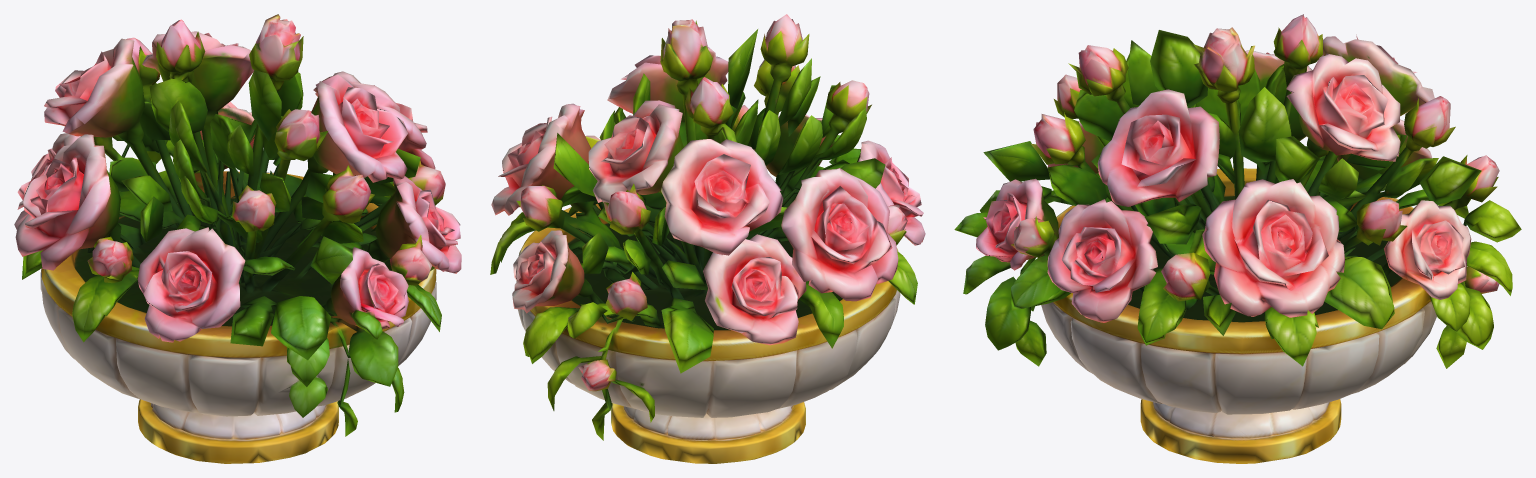
File: HaloFlowerPotHQ_Rose_HD_src.glb
The picture shows the model from 3 angles, left to right: view 1: azimuth 30°, elevation 25°; view 2: azimuth 150°, elevation 25°; view 3: azimuth 270°, elevation 25°; orthographic projection. The views are drawn at different scales.
Parts seen in each view (by area): view 1: tripo_node_f7cda2cc-5327-47d5-830c-140db2cbeab0; view 2: tripo_node_f7cda2cc-5327-47d5-830c-140db2cbeab0; view 3: tripo_node_f7cda2cc-5327-47d5-830c-140db2cbeab0.
Part boxes in pixels (box(x1,y1,x2,y2)): tripo_node_f7cda2cc-5327-47d5-830c-140db2cbeab0: box(14, 14, 461, 463); tripo_node_f7cda2cc-5327-47d5-830c-140db2cbeab0: box(490, 14, 925, 463); tripo_node_f7cda2cc-5327-47d5-830c-140db2cbeab0: box(954, 14, 1521, 463).
Bounding box in the file's own units: 0.8018 × 0.7773 × 0.9827.
1 material, 1 textured.
